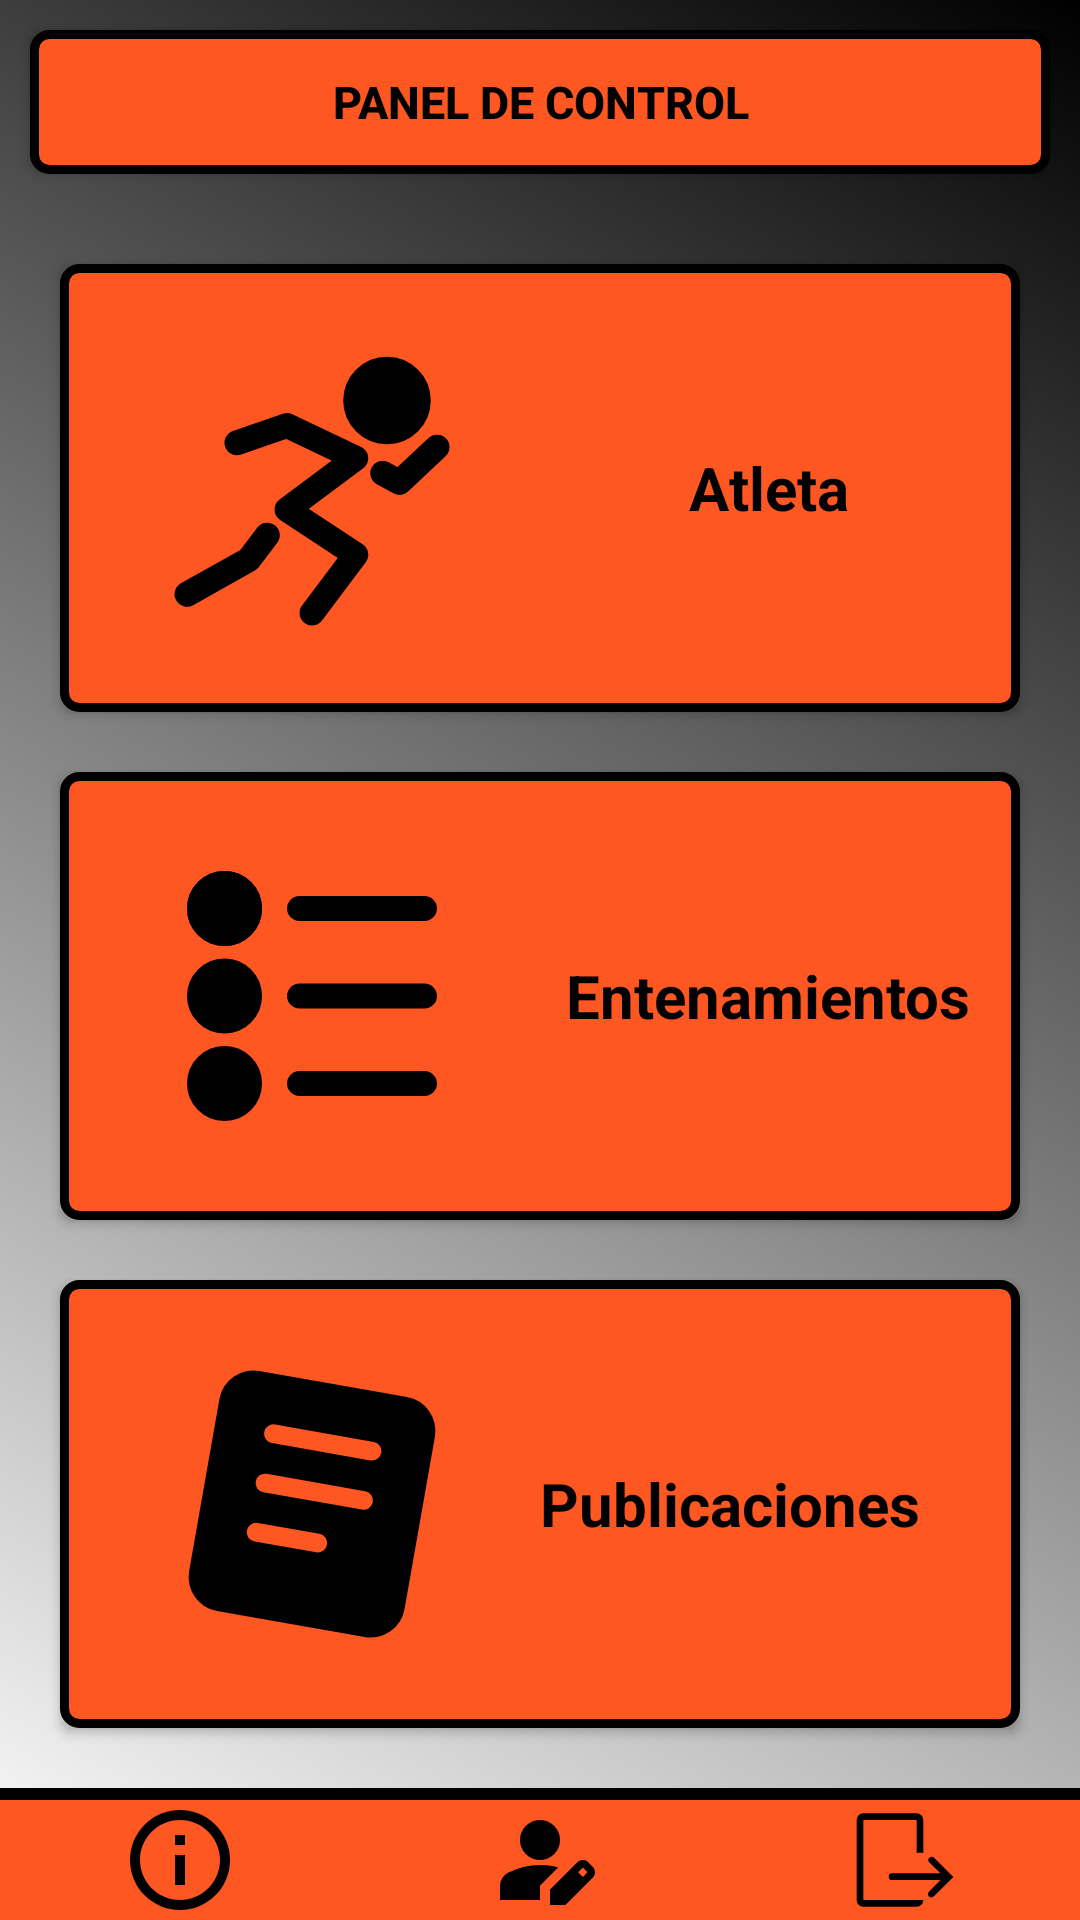

Icon bounding boxes for this 1080x1920 phone screenshot, format box=[x1, y1, x2, y2]:
athlete: box=[174, 356, 450, 626]
list: box=[187, 871, 437, 1121]
person edit: box=[500, 1820, 595, 1905]
post: box=[188, 1370, 436, 1638]
